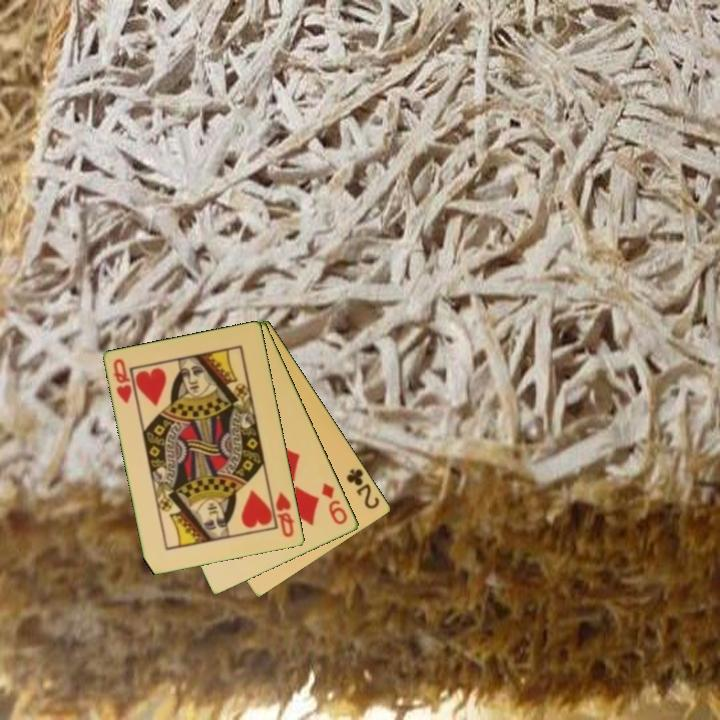2c: (343, 465, 383, 512)
9d: (318, 480, 351, 528)
Qh: (109, 355, 135, 406), (272, 488, 297, 541)
